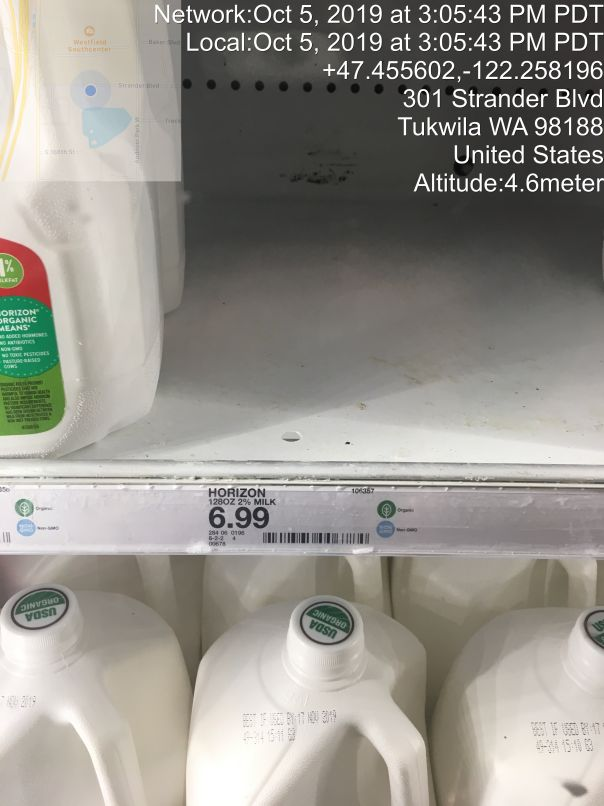Horizon: (1, 1, 205, 453), (215, 577, 434, 806), (8, 573, 189, 806), (439, 584, 604, 798)
Label: (199, 473, 418, 551)
Location: (389, 83, 604, 176)
Time: (151, 2, 604, 55)
